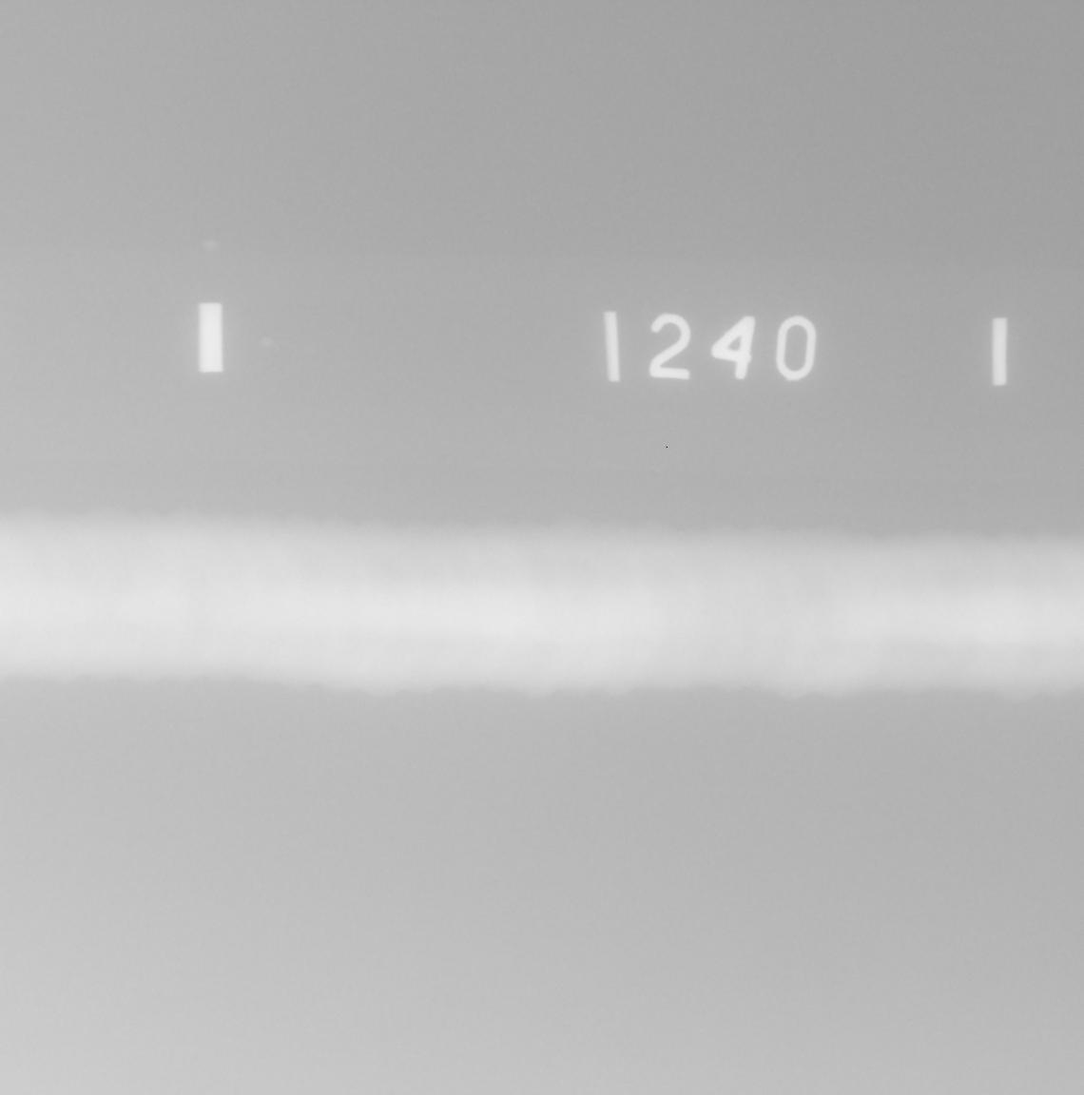Inclusion: (699, 611, 709, 615)
Pore/Porosity: (200, 574, 205, 579)
